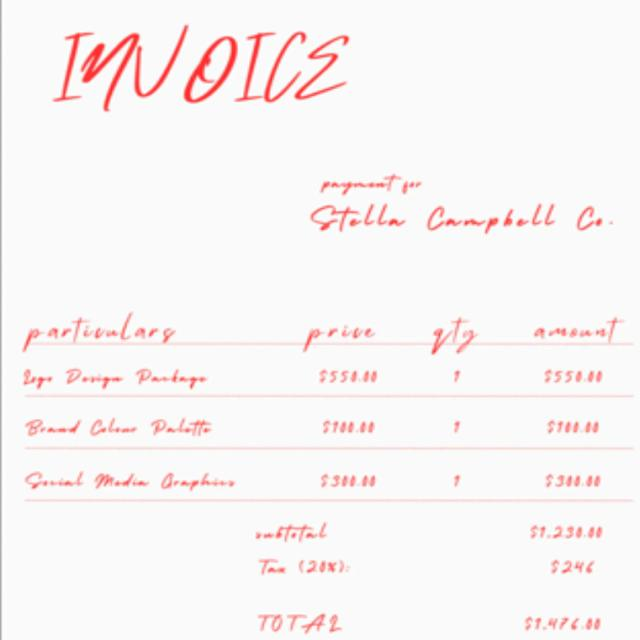items: (12, 296, 640, 509)
shop: (37, 21, 445, 152)
tax: (218, 516, 622, 582)
tot: (229, 608, 625, 640)
